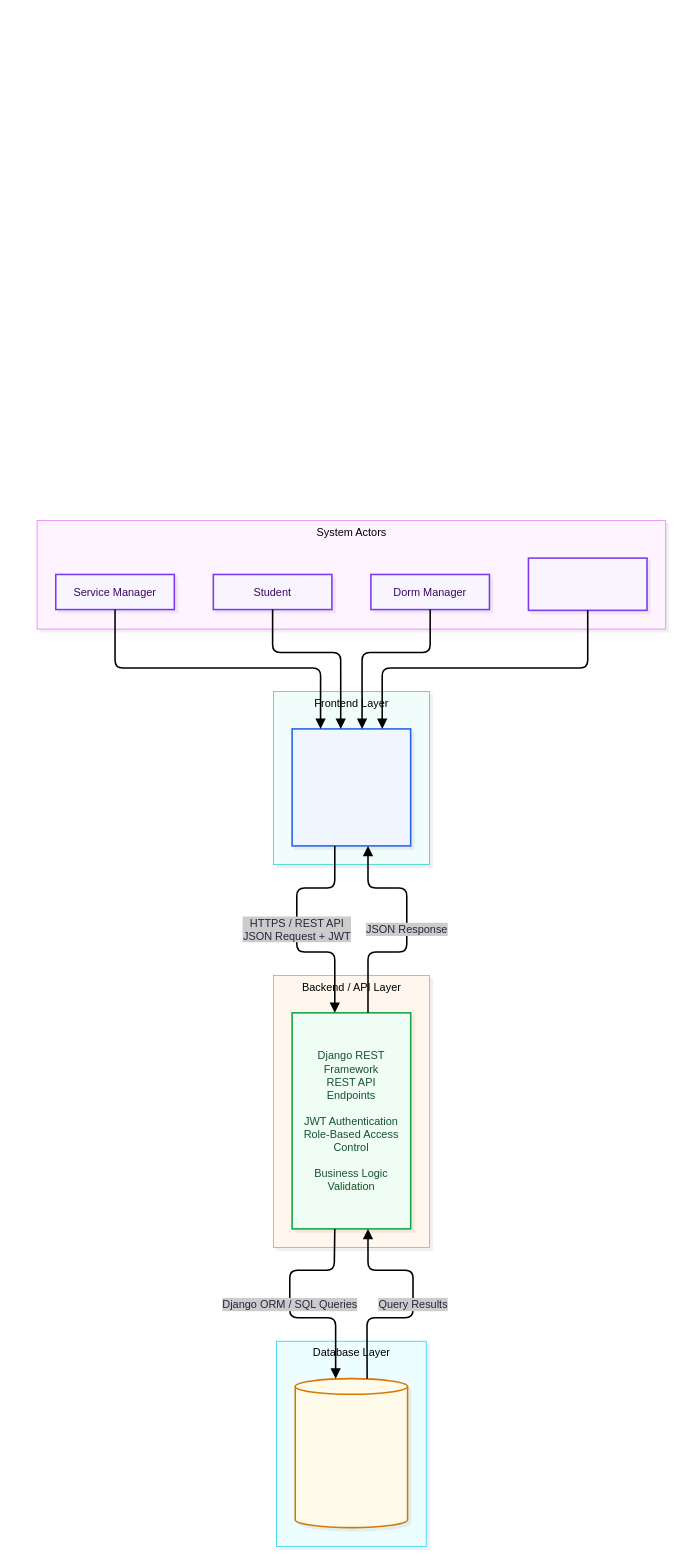
The diagram is 683 pixels wide and 1563 high, and some of its shapes have lost their labels. The centre of each missing label's shape, as x and y in pixels:
"Maintenance / IT Staff" belongs at [589,585].
"PostgreSQL Database Users Requests Bookings Announcements" belongs at [352,1454].
"Web Application React + TypeScript Vite + Tailwind CSS React Router" belongs at [352,788].
